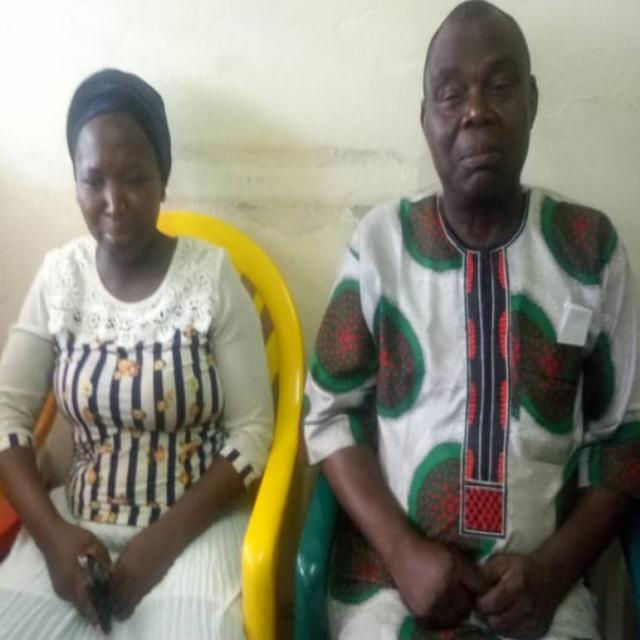sad: (414, 3, 544, 215), (61, 95, 177, 262)
